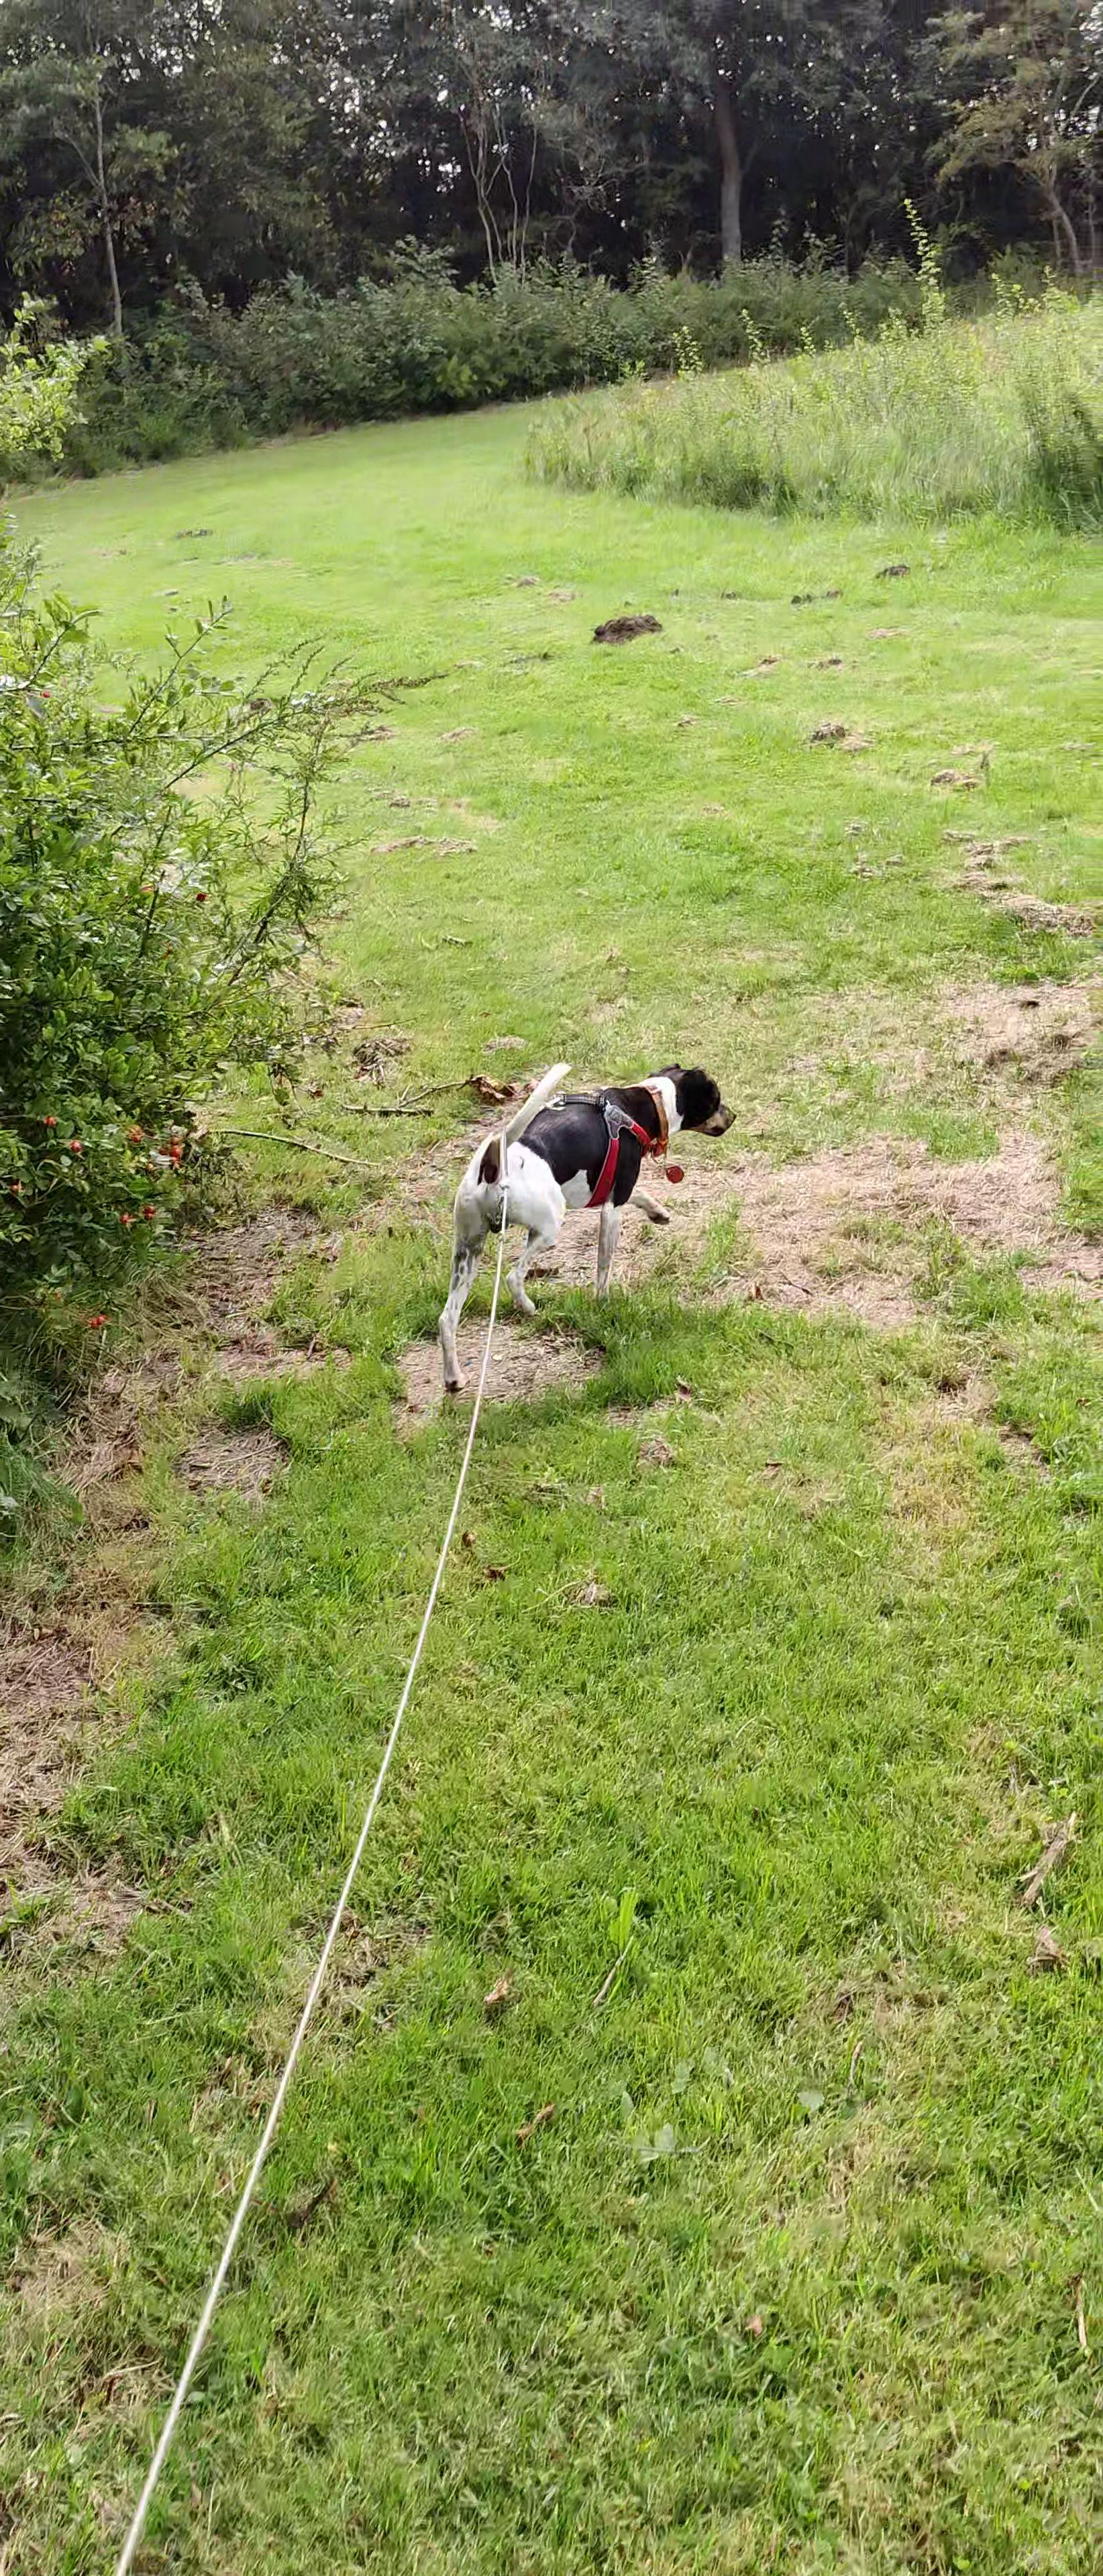Dog: (421, 1046, 748, 1401)
